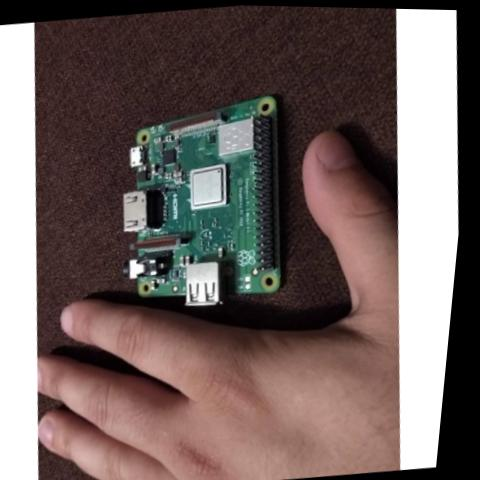Raspberry-Pi-3-Model-A-: (100, 79, 315, 320)
